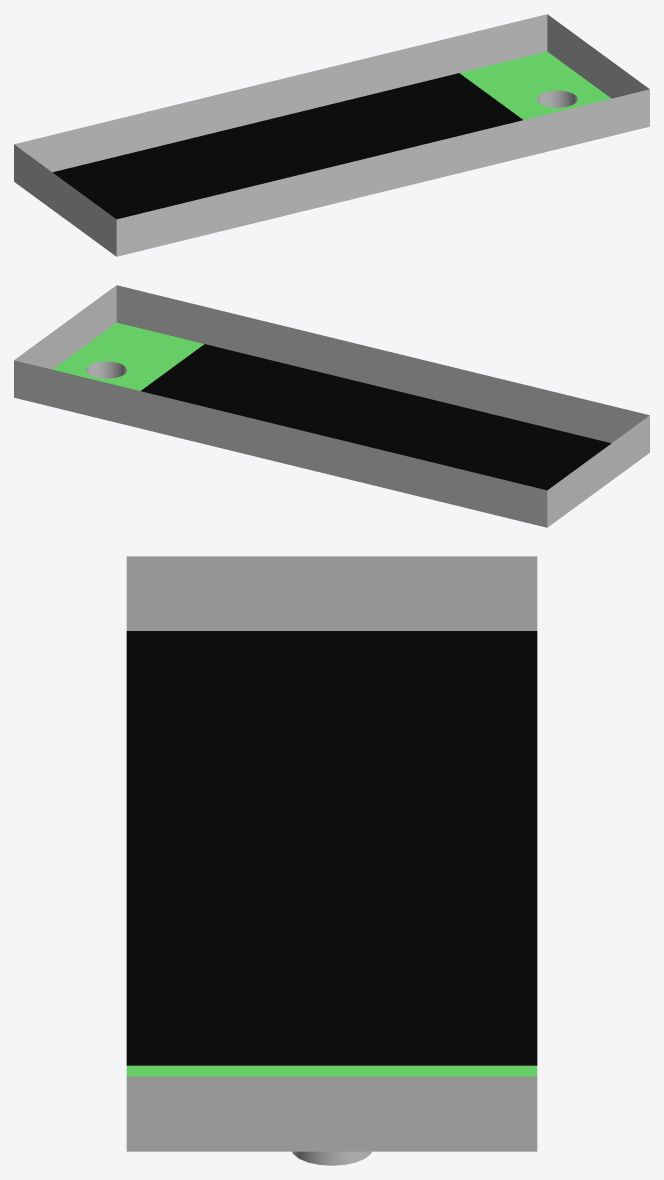
Rendered from map1.fbx.
The picture shows the model from 3 angles, top to bottom: view 1: azimuth 30°, elevation 25°; view 2: azimuth 150°, elevation 25°; view 3: azimuth 270°, elevation 25°; orthographic projection. The views are drawn at different scales.
Parts seen in each view (by area): view 1: pPlane2; view 2: pPlane2; view 3: pPlane2.
Boxes of the visible parts, x1,y1,x2,y2 form: pPlane2: (14,14,649,256); pPlane2: (14,285,649,527); pPlane2: (126,556,537,1165).
Bounding box in the file's own units: 30 × 3.01 × 10.
